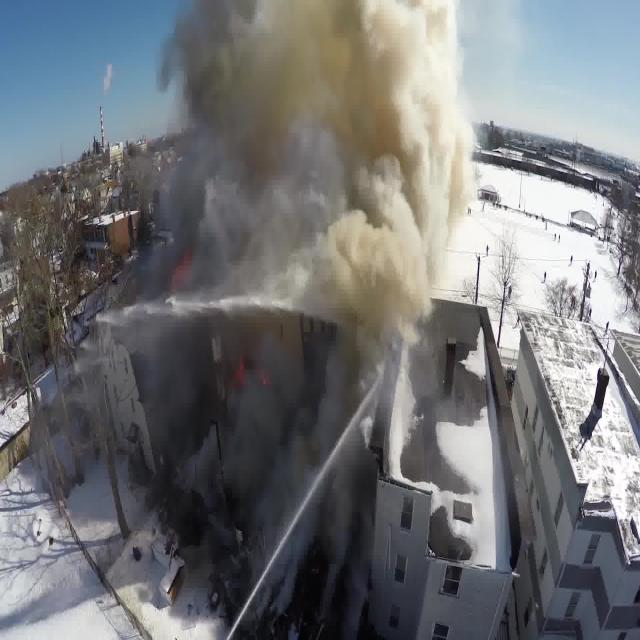Smoke: (152, 5, 470, 345)
